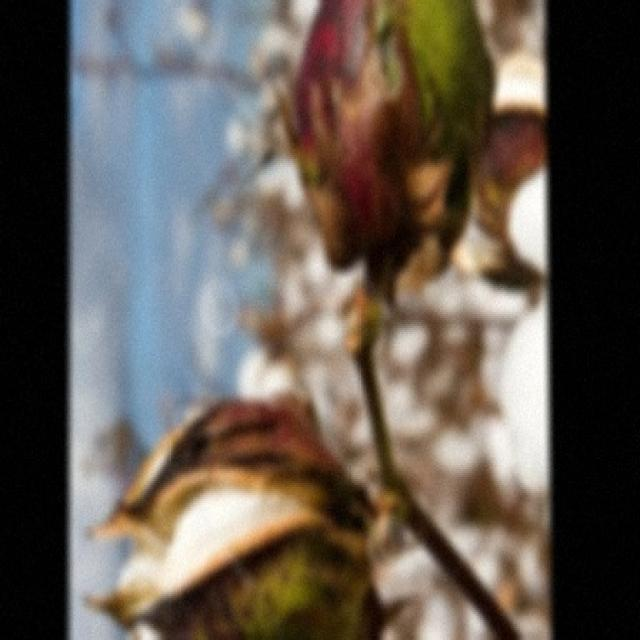Early Boll: (278, 0, 498, 282)
Split Cotton Boll: (91, 395, 367, 640)
